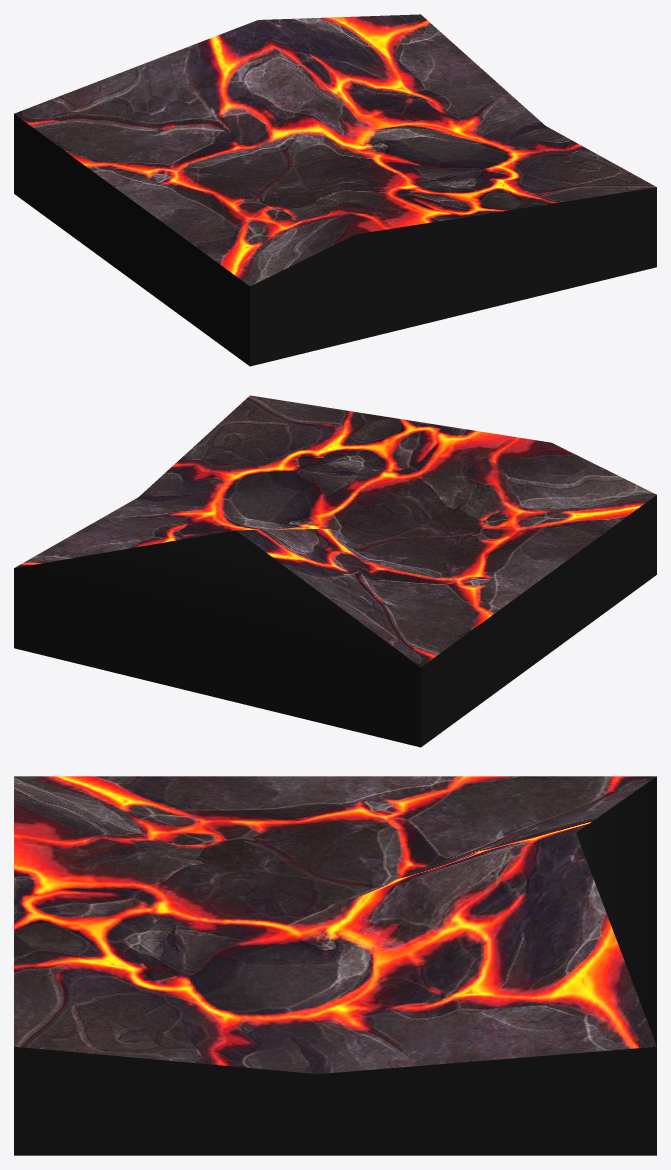
File: ARC0310010.fbx
3 views of the same model, one above another, from view 1: azimuth 30°, elevation 25°; view 2: azimuth 150°, elevation 25°; view 3: azimuth 270°, elevation 25° (orthographic). The views are drawn at different scales.
Parts seen in each view (by area): view 1: smARC0310010; view 2: smARC0310010; view 3: smARC0310010.
Boxes of the visible parts, x1,y1,x2,y2 form: smARC0310010: (14,14,656,366); smARC0310010: (14,395,656,747); smARC0310010: (14,776,656,1155).
Size of the model in its own units: 202 by 67.89 by 203.
1 material, 1 textured.
